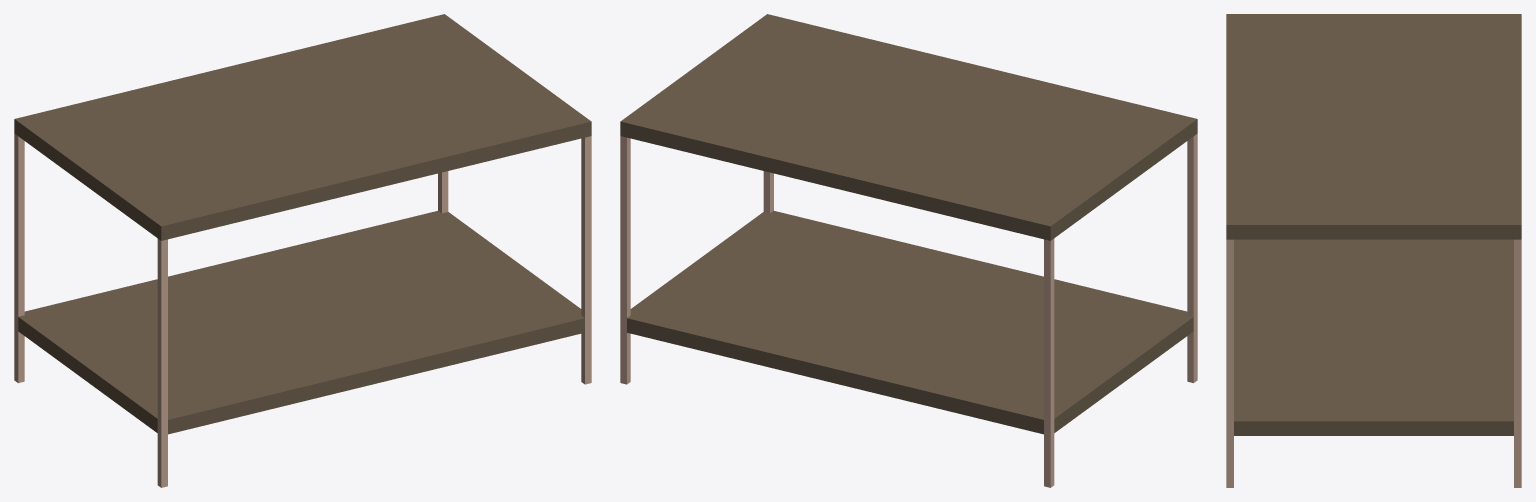
The model's file is desk.glb.
3 renders of one model, left to right at view 1: azimuth 30°, elevation 25°; view 2: azimuth 150°, elevation 25°; view 3: azimuth 270°, elevation 25°, orthographic.
Visible parts, largest first — view 1: Table; view 2: Table; view 3: Table.
Part boxes in pixels (box(x1,y1,x2,y2)): Table: box(14, 14, 591, 487); Table: box(620, 14, 1197, 487); Table: box(1226, 14, 1521, 487).
Size of the model in its own units: 1 by 0.5809 by 0.5914.
1 material, 1 textured.
